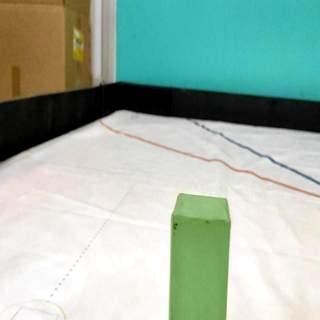greenbox: (168, 191, 232, 320)
